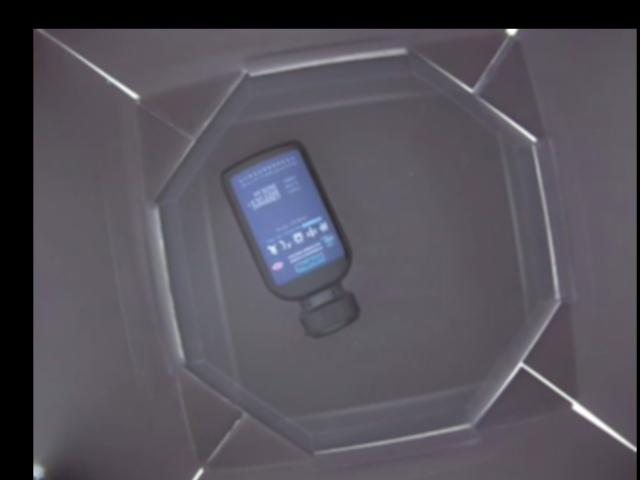Bottle: (217, 137, 363, 338)
